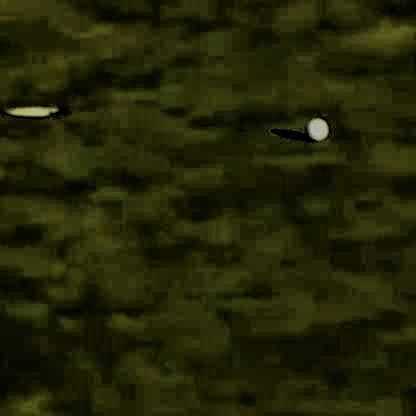golfball: (303, 110, 325, 138)
